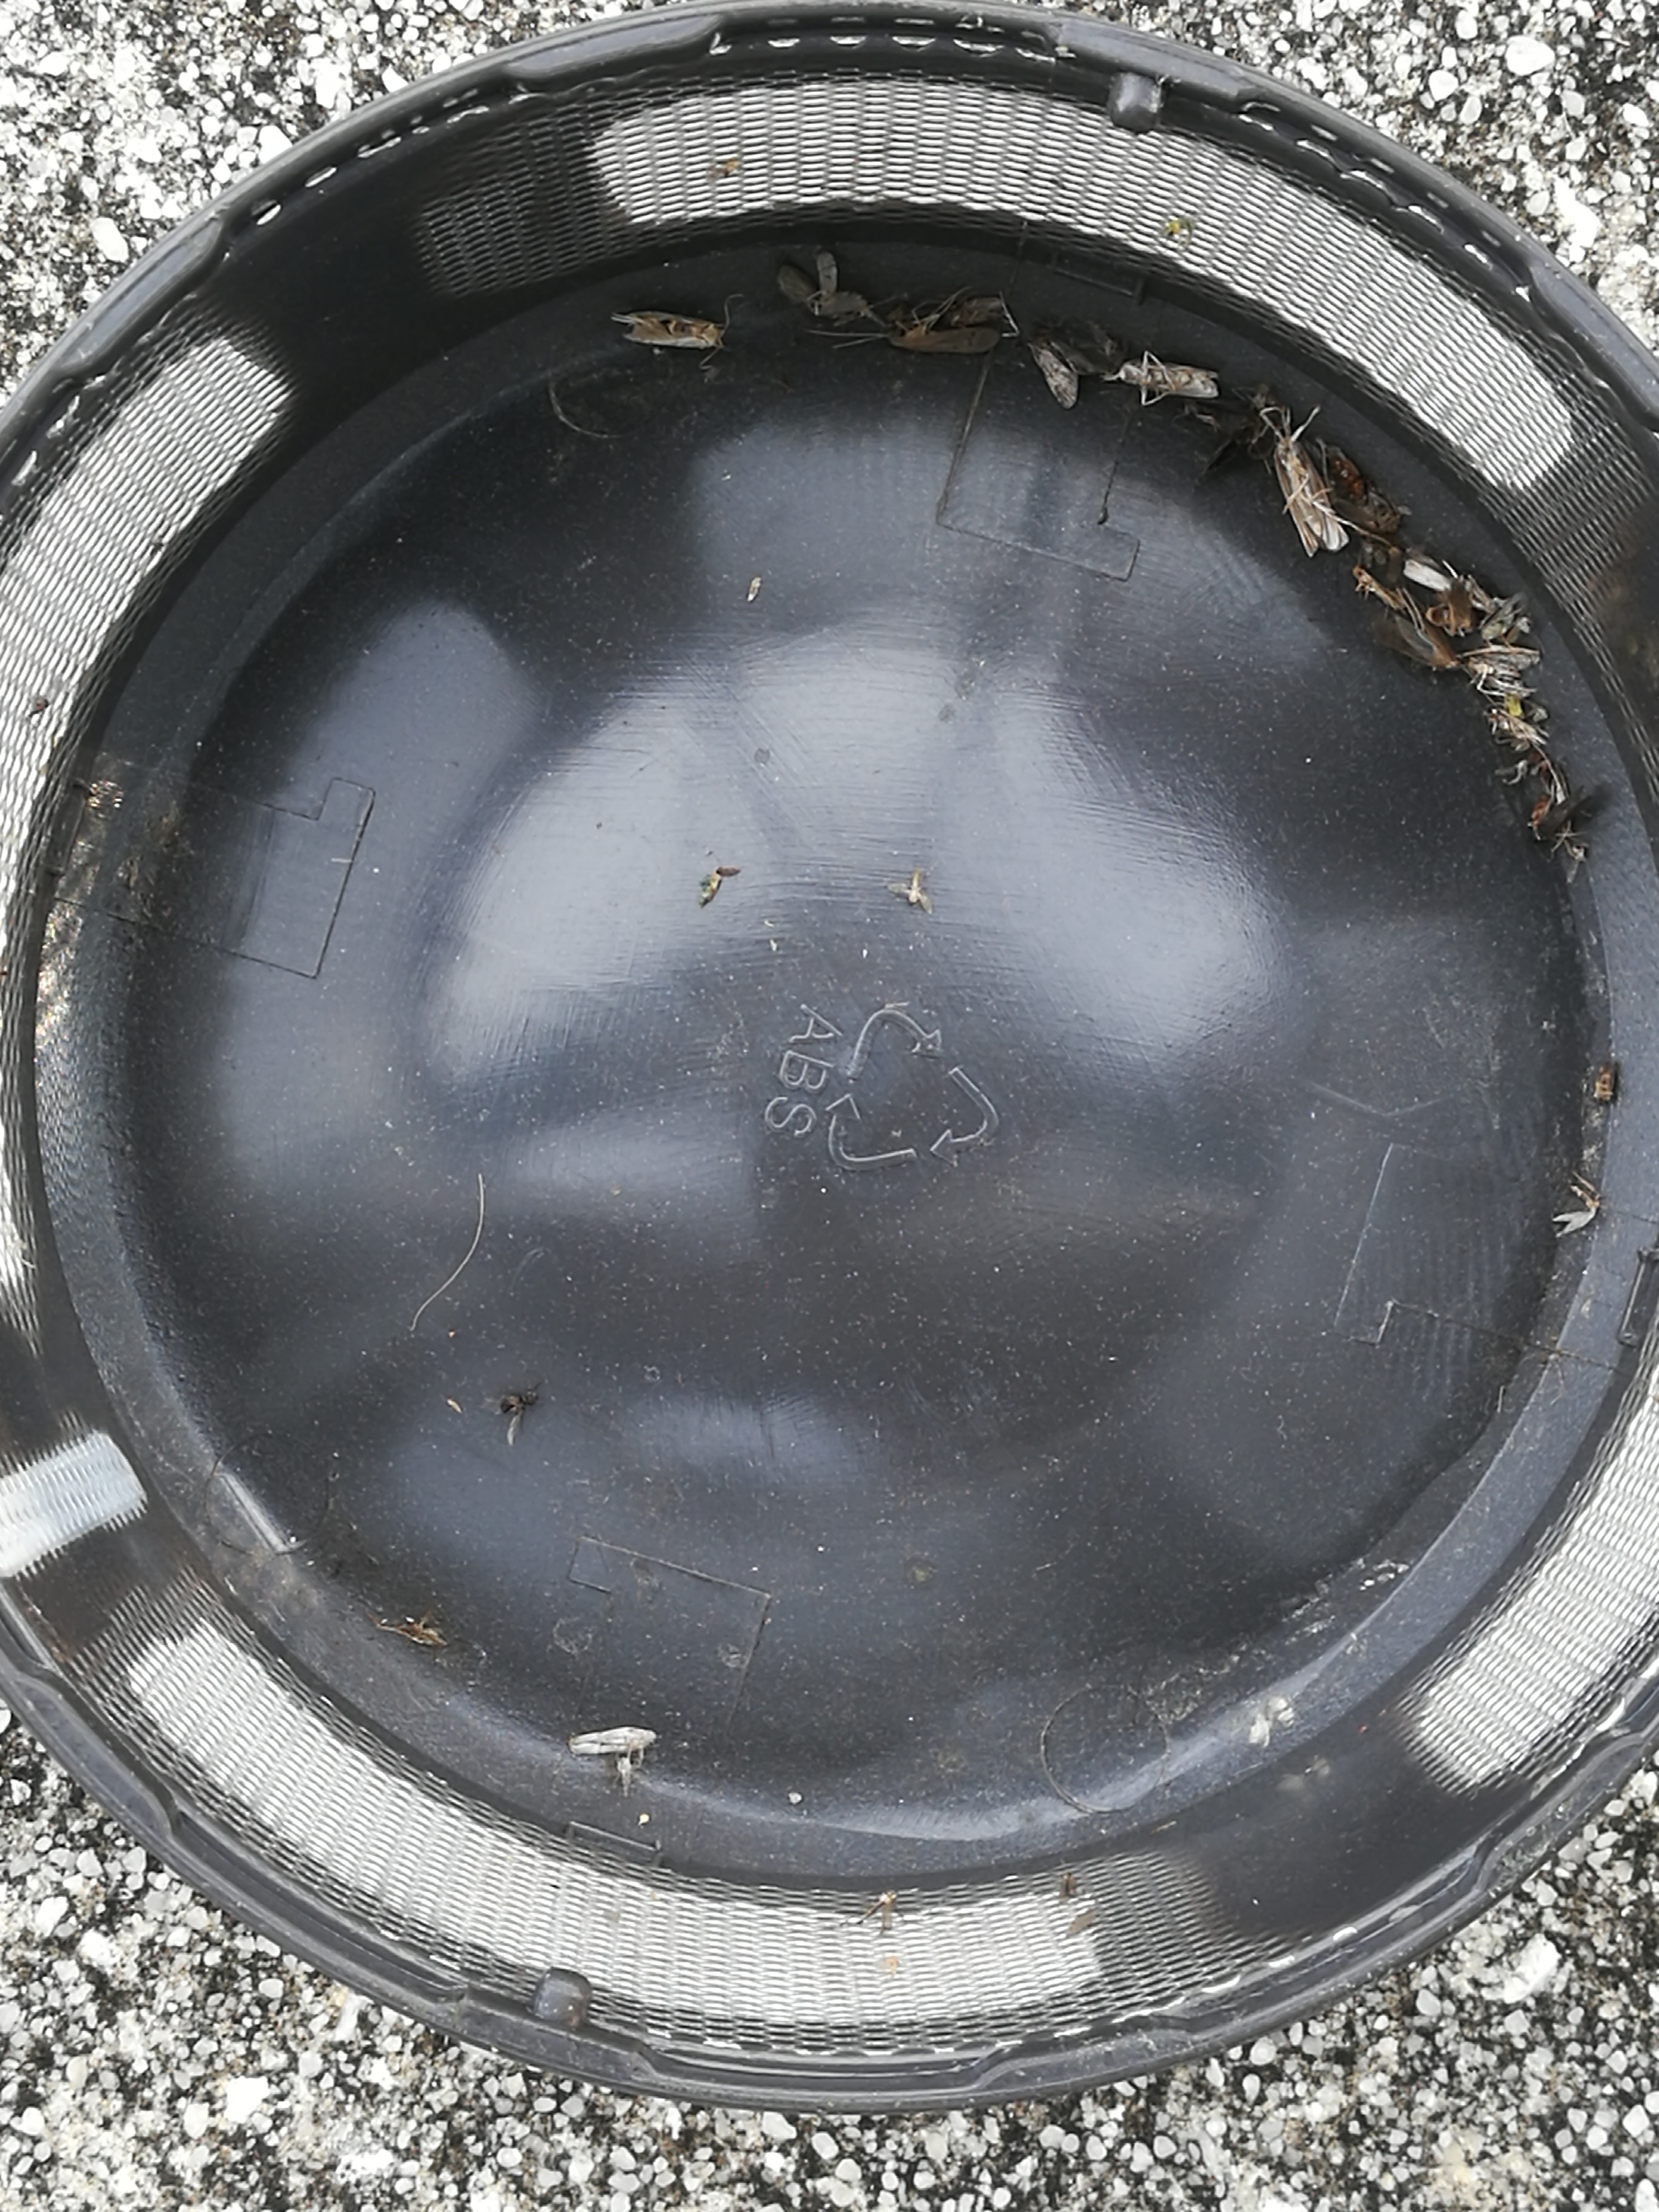mosquito: (1276, 437, 1344, 559), (1119, 359, 1218, 399), (624, 308, 720, 348), (890, 327, 999, 355)
moth: (779, 251, 864, 319), (1032, 336, 1107, 411), (1371, 610, 1455, 665), (1460, 646, 1541, 695)
